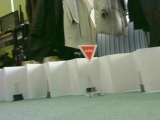stop: (78, 45, 98, 62)
